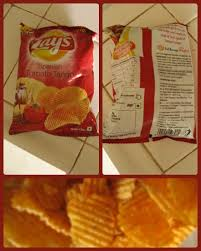plastic: (104, 21, 197, 146), (17, 23, 98, 137)
wrapper: (103, 21, 196, 147), (11, 21, 97, 140)
